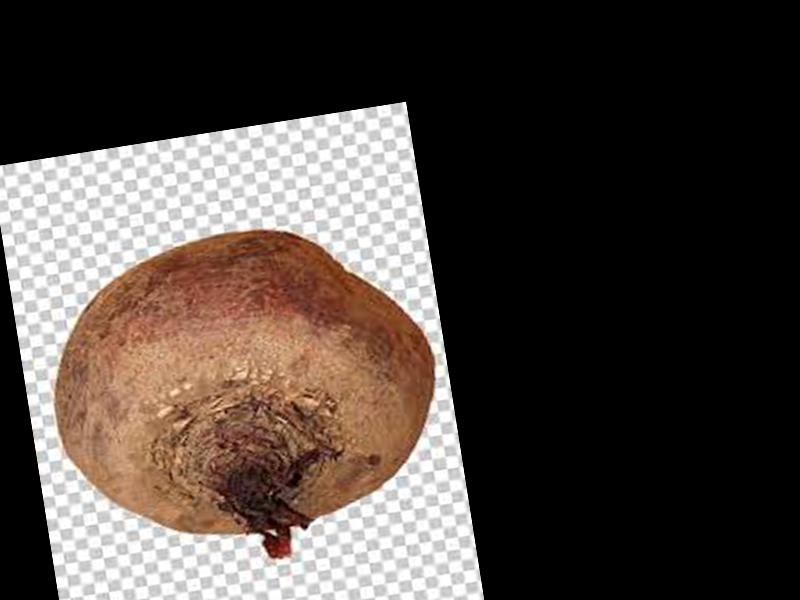Beet: (34, 206, 457, 589)
